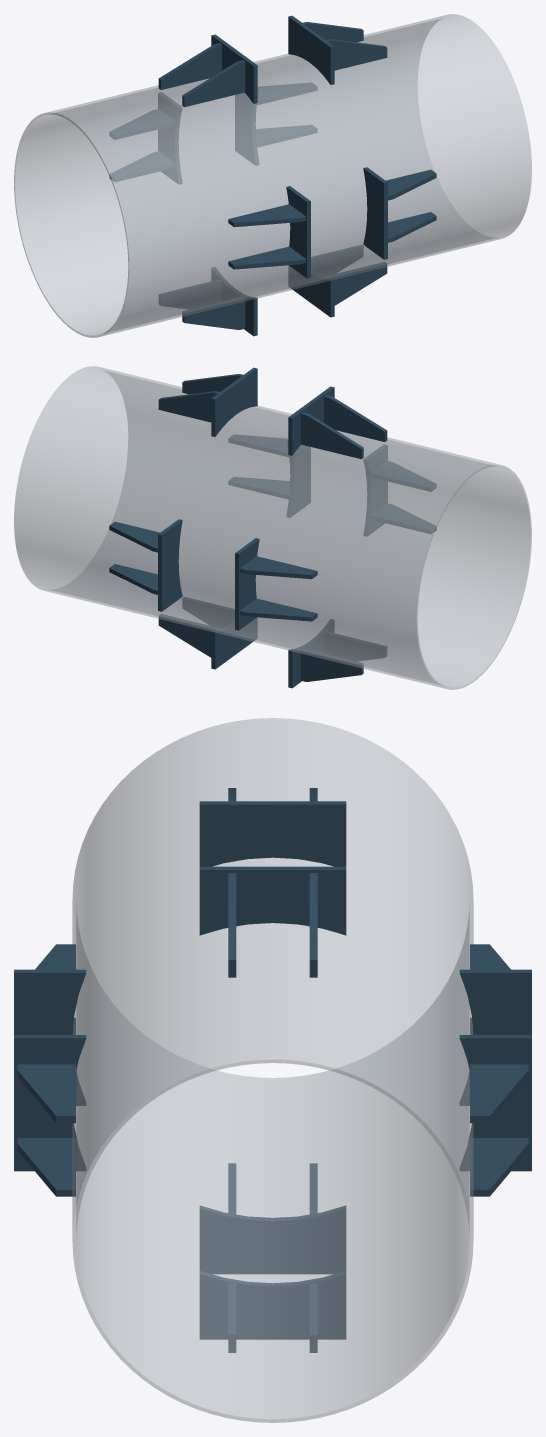
File: TS-661.00.00-10-opora-dn820-ris1.glb
The picture shows the model from 3 angles, top to bottom: view 1: azimuth 30°, elevation 25°; view 2: azimuth 150°, elevation 25°; view 3: azimuth 270°, elevation 25°; orthographic projection. The views are drawn at different scales.
Parts seen in each view (by area): view 1: truba, upor_7, upor_1, upor_6, upor_5, upor_17, upor_10, upor_13, upor_19, upor_22, upor_18, upor_14 (+13 smaller); view 2: truba, upor_19, upor_1, upor_5, upor_6, upor_18, upor_22, upor_13, upor_7, upor_10, upor_17, upor_15 (+13 smaller); view 3: truba, upor_16, upor_4, upor_1, upor_13, upor_7, upor_19, upor_10, upor_22, upor_8, upor_21, upor_9 (+5 smaller).
Boxes of the visible parts, x1,y1,x2,y2 form: truba: (14,14,531,337); upor_7: (363,167,387,259); upor_1: (288,15,334,84); upor_6: (182,60,245,107); upor_5: (158,43,221,89); upor_17: (182,297,245,329); upor_10: (286,186,310,278); upor_13: (288,266,334,317); upor_19: (235,88,259,165); upor_22: (158,92,182,184); upor_18: (159,279,221,308); upor_14: (325,262,387,305); truba: (14,366,531,689); upor_19: (158,519,182,611); upor_1: (211,367,257,436); upor_5: (300,412,363,459); upor_6: (324,395,387,441); upor_18: (300,649,363,681); upor_22: (235,538,259,630); upor_13: (211,618,257,669); upor_7: (286,440,310,517); upor_10: (363,444,387,536); upor_17: (324,631,386,660); upor_15: (158,614,220,657); truba: (72,718,473,1422); upor_16: (199,1205,346,1274); upor_4: (199,801,346,866); upor_1: (199,866,346,935); upor_13: (199,1271,346,1339); upor_7: (14,1035,86,1171); upor_19: (459,1035,531,1171); upor_10: (14,969,86,1105); upor_22: (459,969,531,1105); upor_8: (17,1064,75,1123); upor_21: (470,1064,528,1123); upor_9: (17,1138,75,1196).
Size of the model in its own units: 1652 by 1059 by 1059.
